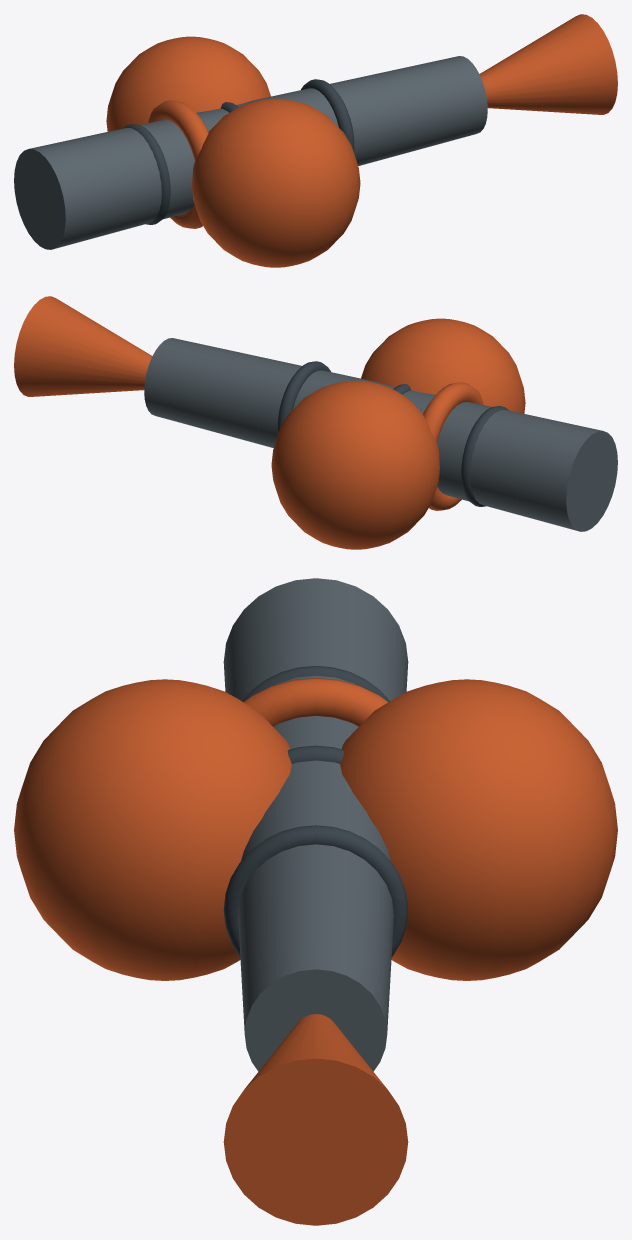
Rendered from shot.glb.
3 renders of one model, top to bottom at view 1: azimuth 30°, elevation 25°; view 2: azimuth 150°, elevation 25°; view 3: azimuth 270°, elevation 25°, orthographic. The views are drawn at different scales.
Size of the model in its own units: 2.71 by 0.72 by 1.44.
